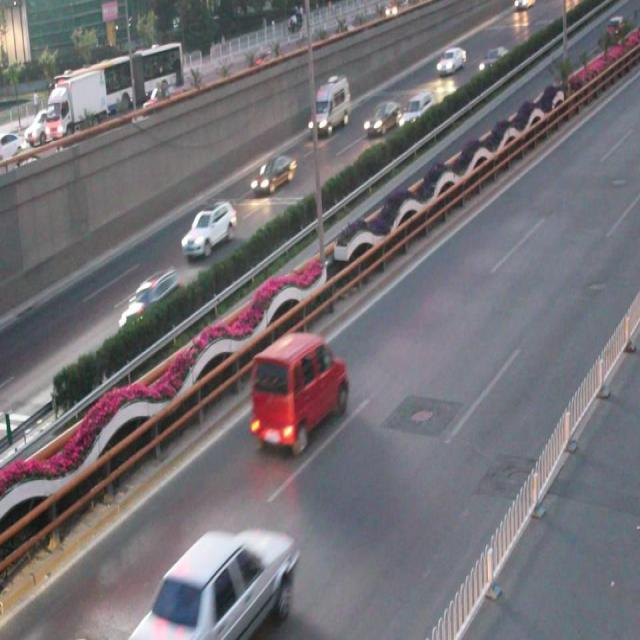car: (131, 520, 298, 640), (250, 331, 347, 456), (114, 268, 188, 332), (180, 201, 237, 258), (248, 148, 297, 194), (397, 92, 432, 130), (362, 98, 398, 134)
truck: (309, 75, 353, 136)
